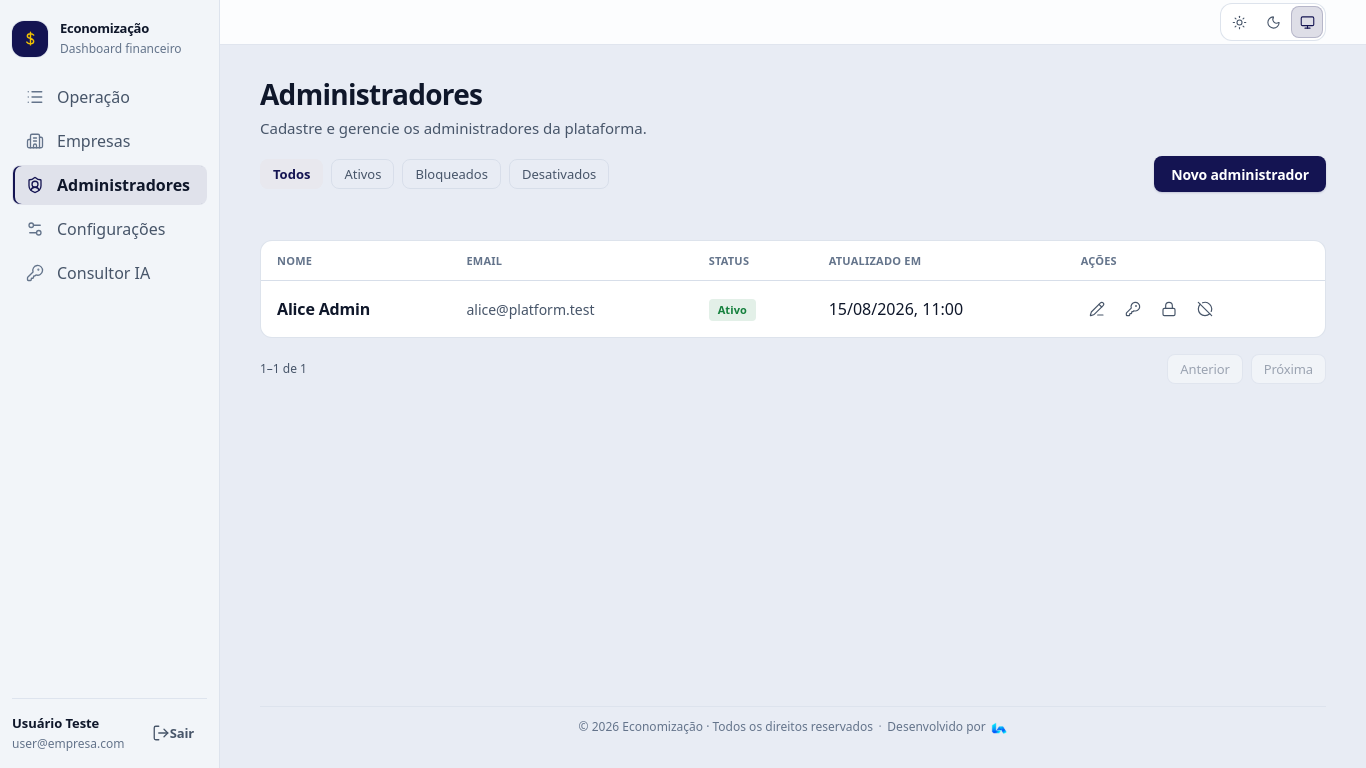
UI administrativa de Administradores (1.4D) › listagem › mostra conflito do último ADMIN de forma amigável
Expected: the table named "Administradores cadastrados" is shown, [261, 241, 1325, 337]
Click the button named "Bloquear Alice Admin" at (1169, 309), box [1153, 293, 1185, 325]
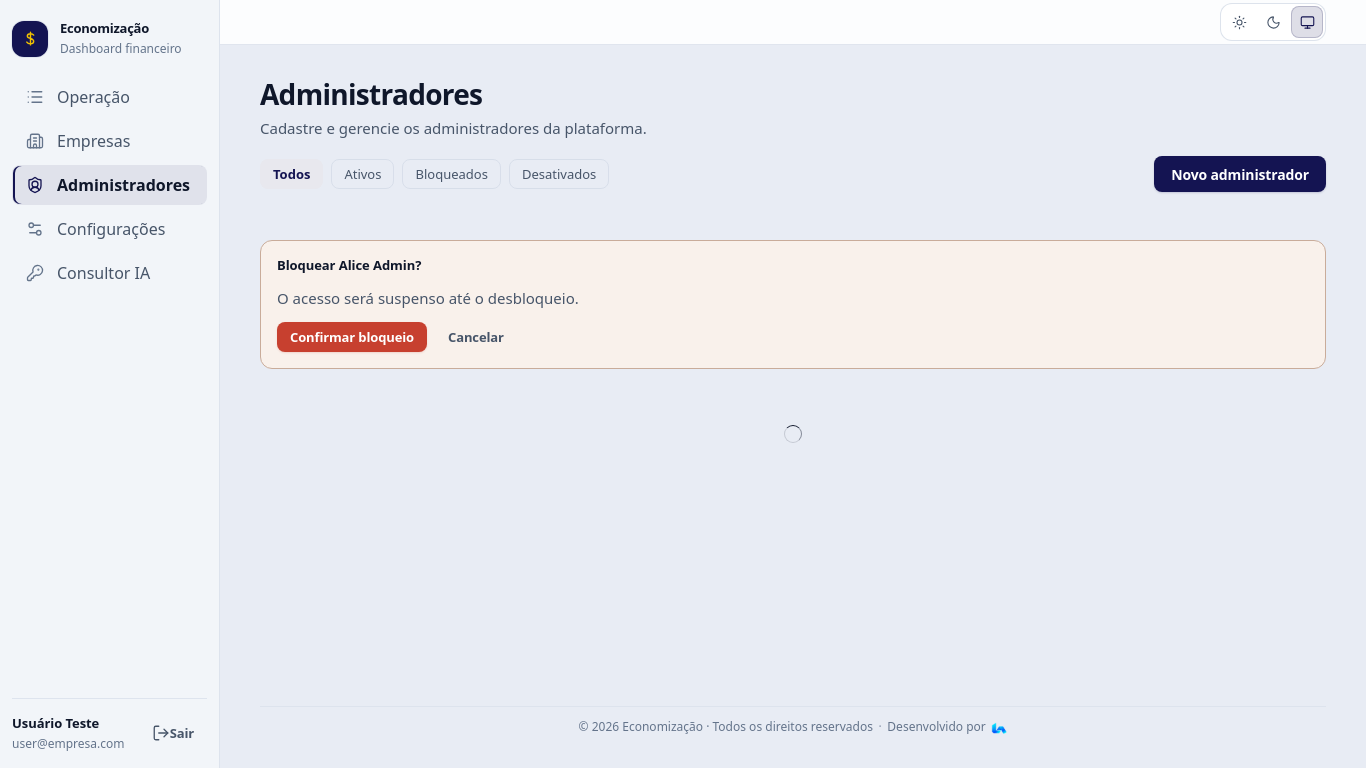
Click the button "Confirmar bloqueio" at (352, 337), box [277, 322, 427, 352]
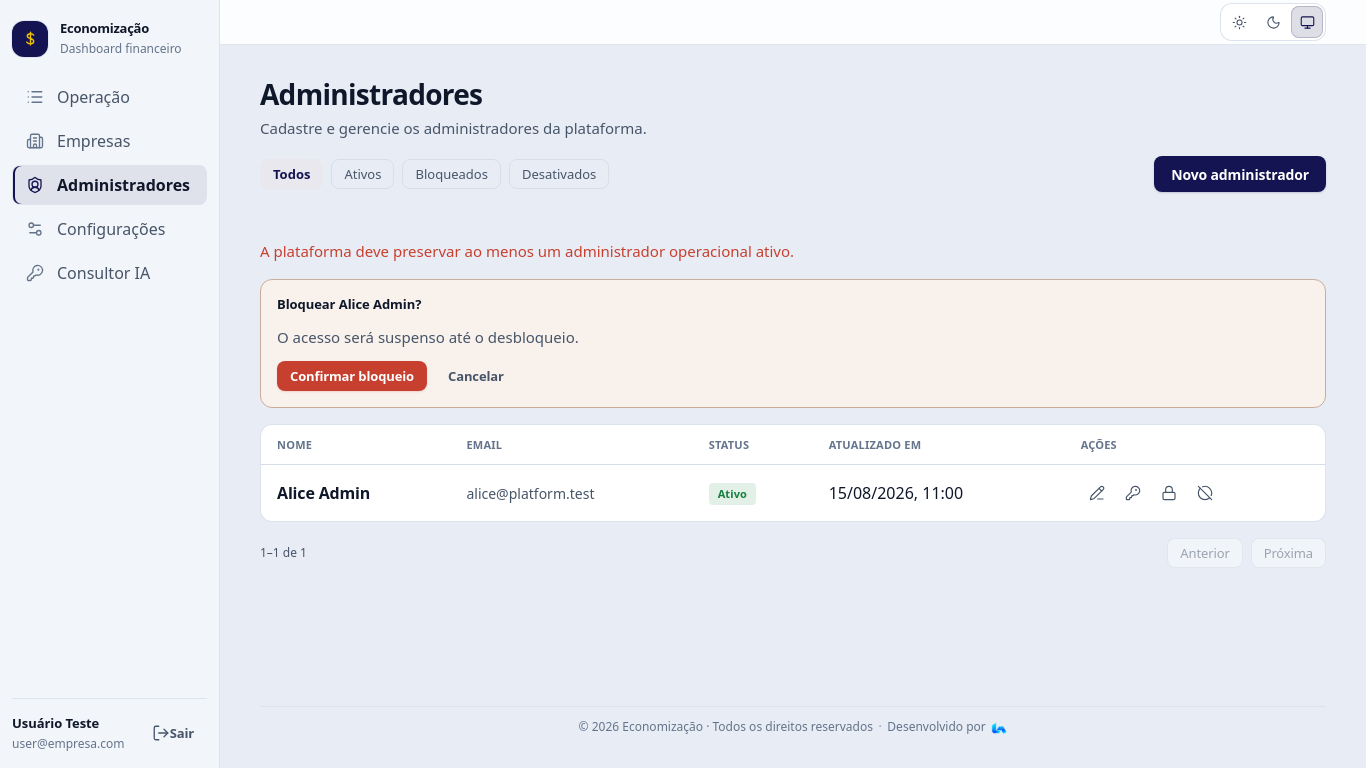
Expected: the text "A plataforma deve preservar ao menos um administrador operacional ativo." is shown, [260, 241, 794, 261]
